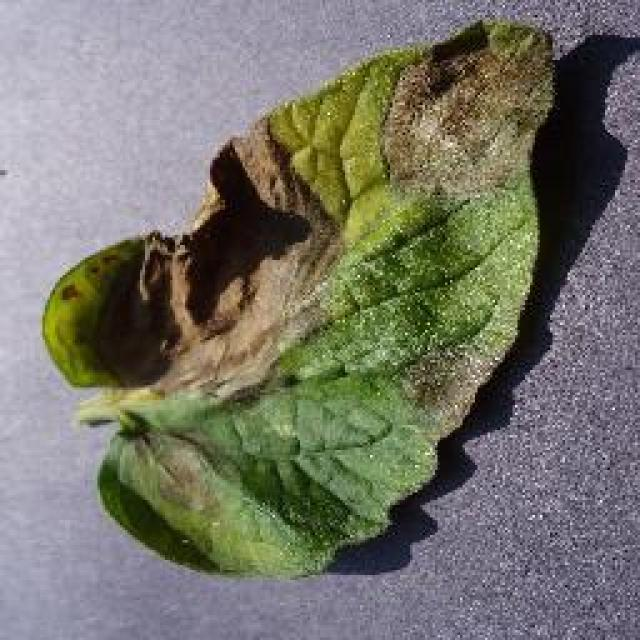Tomato late blight leaf: (40, 24, 555, 594)
